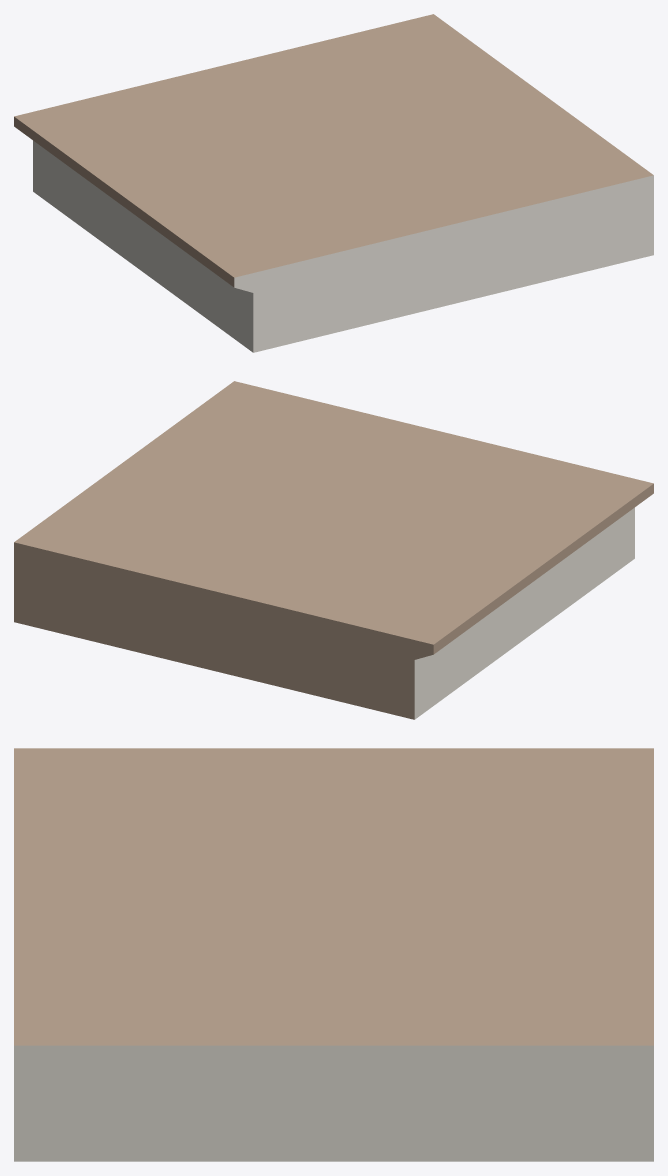
File: Structure_Balcony_1_Edge.fbx
3 renders of one model, top to bottom at view 1: azimuth 30°, elevation 25°; view 2: azimuth 150°, elevation 25°; view 3: azimuth 270°, elevation 25°, orthographic. The views are drawn at different scales.
Visible parts, largest first — view 1: object1.055; view 2: object1.055; view 3: object1.055.
Part boxes in pixels (left/top/right/bottom): object1.055: left=14, top=14, right=653, bottom=352; object1.055: left=14, top=381, right=653, bottom=719; object1.055: left=14, top=748, right=653, bottom=1161.
Size of the model in its own units: 110 by 20 by 100.
